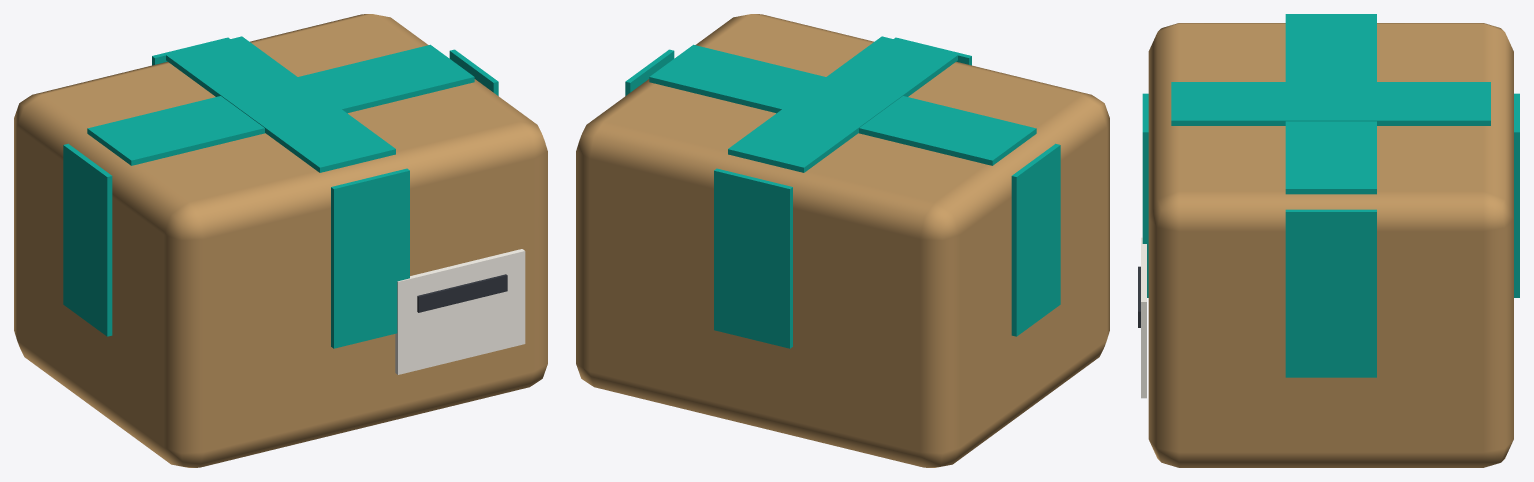
Rendered from fluss_teil.glb.
The picture shows the model from 3 angles, left to right: view 1: azimuth 30°, elevation 25°; view 2: azimuth 150°, elevation 25°; view 3: azimuth 270°, elevation 25°; orthographic projection. The views are drawn at different scales.
Parts seen in each view (by area): view 1: fluss_teil; view 2: fluss_teil; view 3: fluss_teil.
Part boxes in pixels (x1,y1,x2,y2): fluss_teil: [14, 14, 547, 467]; fluss_teil: [576, 14, 1109, 467]; fluss_teil: [1138, 14, 1519, 467].
Size of the model in its own units: 0.308 by 0.2045 by 0.251.
